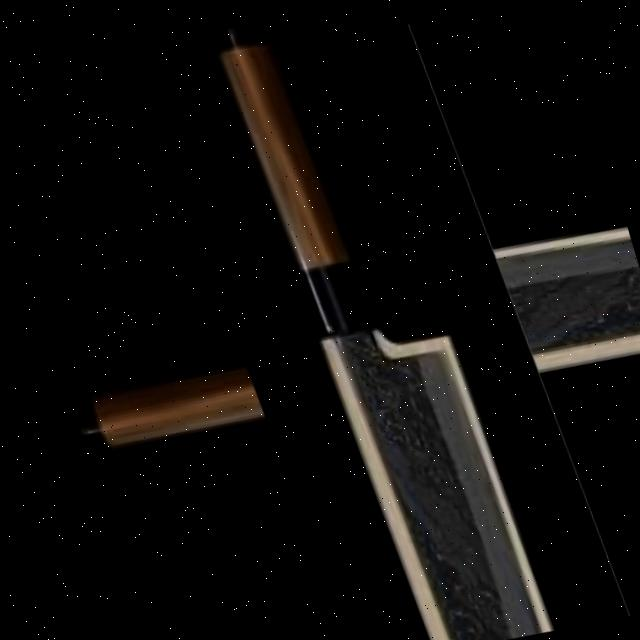knife: (206, 10, 547, 640), (30, 180, 640, 492)
